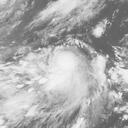cyclone: (27, 38, 99, 113)
